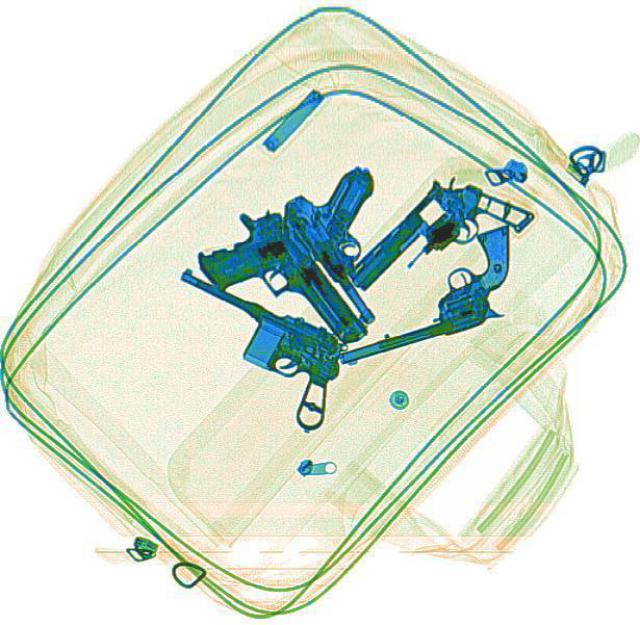Gun: (134, 260, 364, 433), (182, 195, 372, 382), (338, 154, 534, 335), (307, 222, 538, 367), (275, 155, 447, 322)
